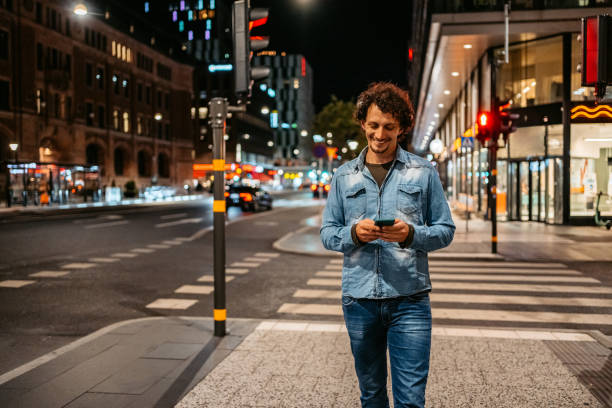red_light: (468, 103, 508, 131)
yaya: (305, 72, 442, 404)
